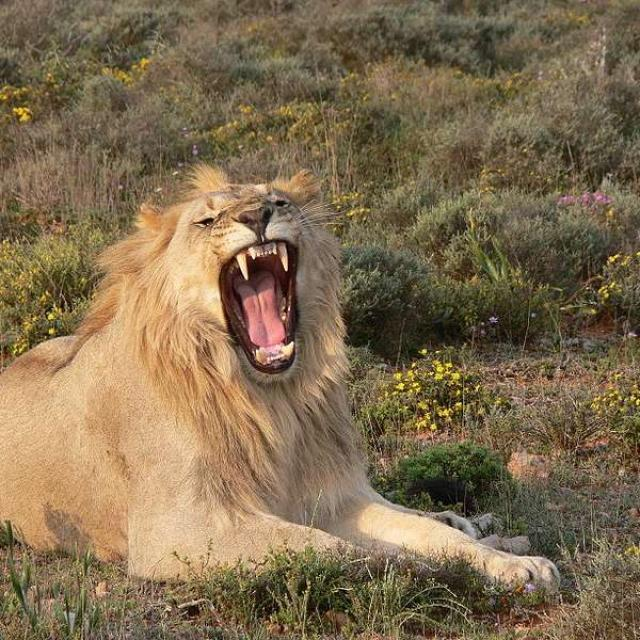lions: (15, 122, 640, 640)
